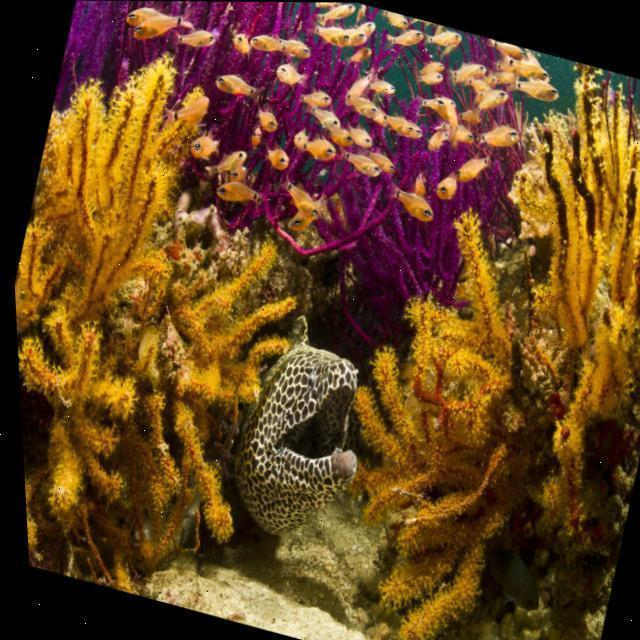Healthy Coral: (285, 24, 640, 640), (1, 29, 342, 596)
